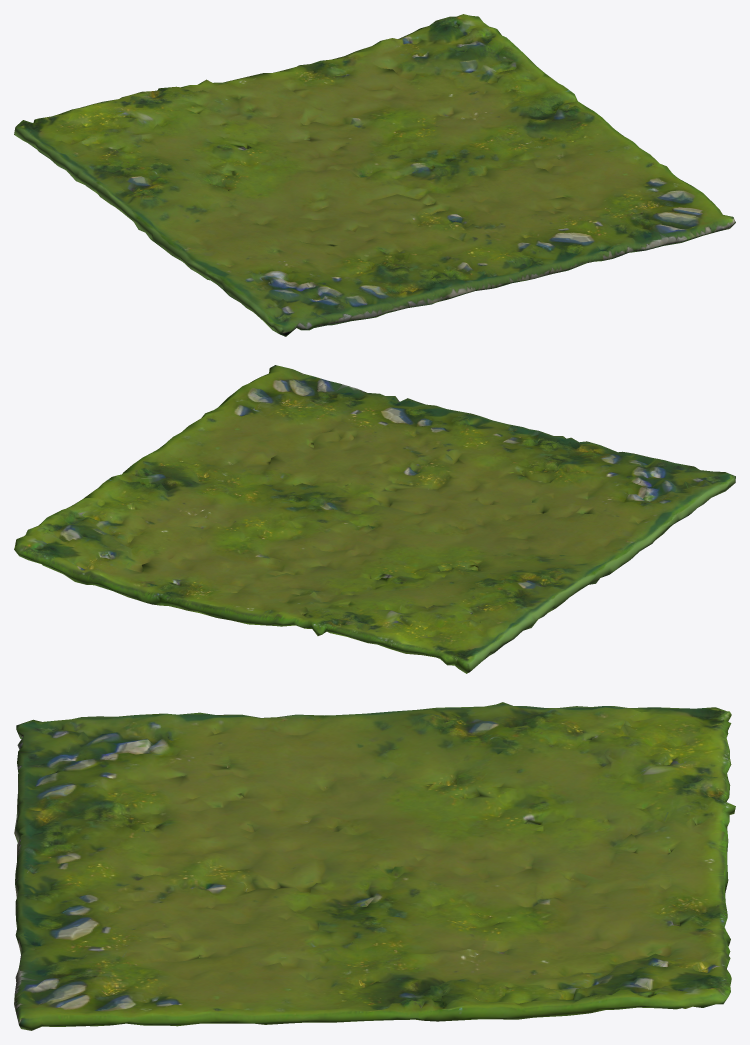
The model's file is ground.glb.
3 renders of one model, top to bottom at view 1: azimuth 30°, elevation 25°; view 2: azimuth 150°, elevation 25°; view 3: azimuth 270°, elevation 25°, orthographic. The views are drawn at different scales.
Size of the model in its own units: 1.95 by 0.1186 by 1.98.
1 material, 1 textured.
